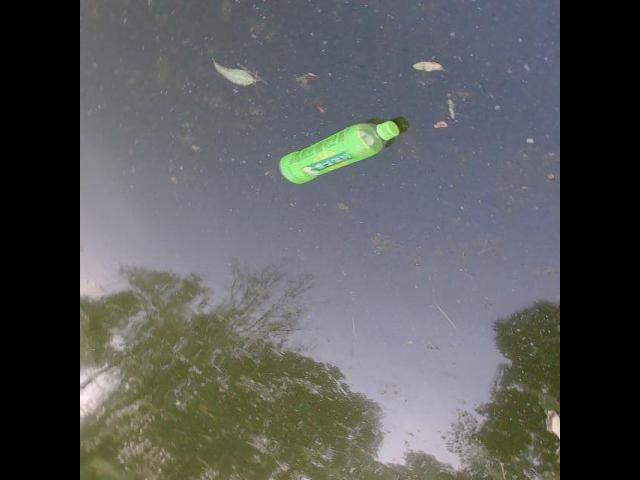Bottle: (274, 107, 404, 193)
